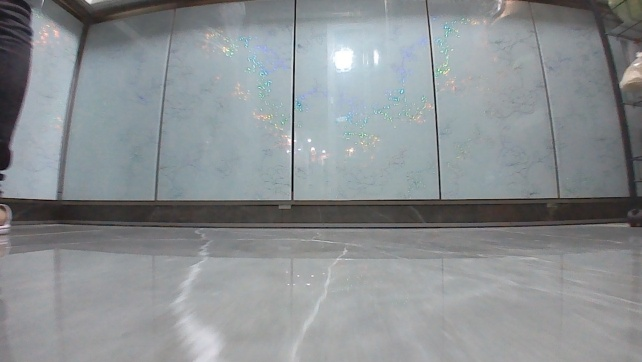cupboard: (0, 0, 637, 228)
